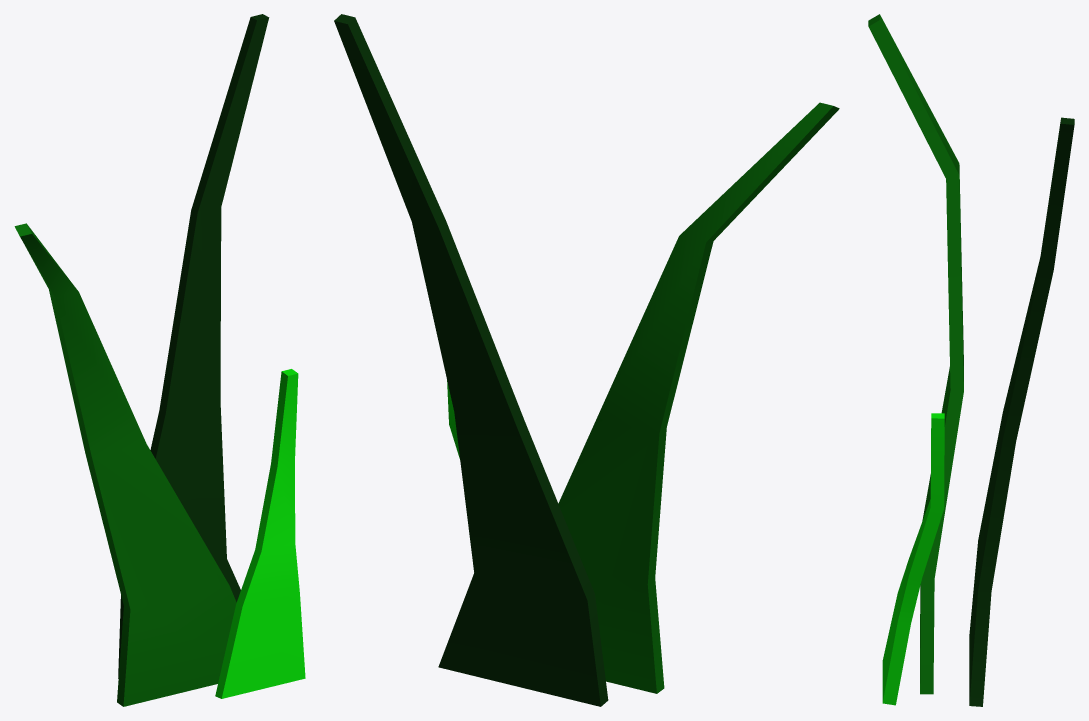
Rendered from grama_conj_1.fbx.
The picture shows the model from 3 angles, left to right: view 1: azimuth 30°, elevation 25°; view 2: azimuth 150°, elevation 25°; view 3: azimuth 270°, elevation 25°; orthographic projection. The views are drawn at different scales.
Visible parts, largest first — view 1: polySurface14; view 2: polySurface14; view 3: polySurface14.
Part boxes in pixels (<box>): polySurface14: <box>14,14,305,706</box>; polySurface14: <box>334,14,839,706</box>; polySurface14: <box>868,14,1074,706</box>.
Size of the model in its own units: 0.3035 by 0.4973 by 0.153.
